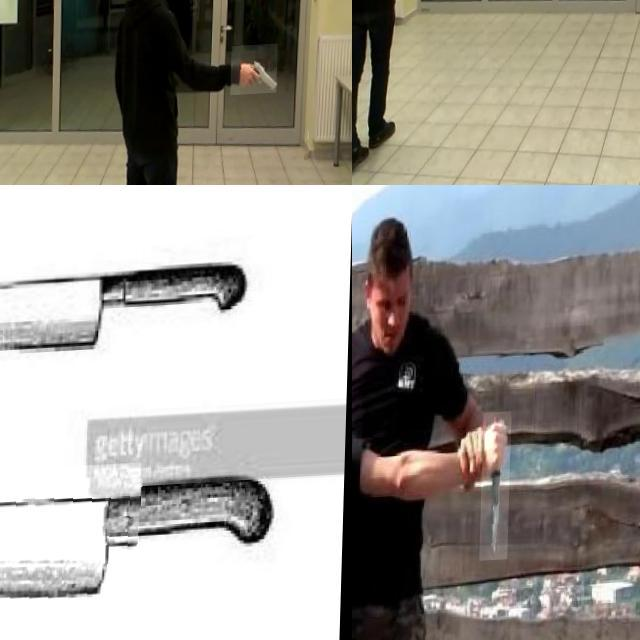-: (0, 467, 195, 640), (0, 243, 160, 403), (482, 416, 513, 566), (0, 185, 104, 223)
gun-knife-thesis - v11 Yolov5 augmented: (233, 50, 280, 101), (442, 0, 479, 20)
